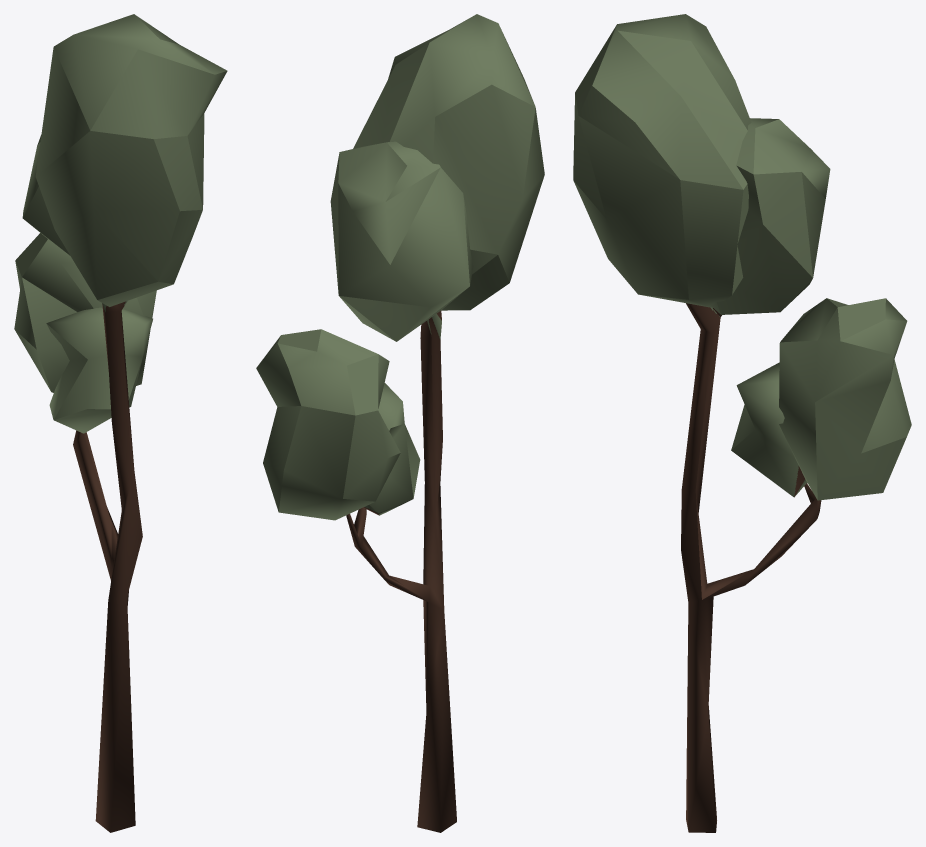
File: BIRCH_TREE_v1.fbx
3 views of the same model, side by side, from view 1: azimuth 30°, elevation 25°; view 2: azimuth 150°, elevation 25°; view 3: azimuth 270°, elevation 25° (orthographic). The views are drawn at different scales.
Parts seen in each view (by area): view 1: BirchTree_Autumn_5_Cube.080; view 2: BirchTree_Autumn_5_Cube.080; view 3: BirchTree_Autumn_5_Cube.080.
Boxes of the visible parts, x1=… form: BirchTree_Autumn_5_Cube.080: x1=14, y1=14, x2=227, y2=832; BirchTree_Autumn_5_Cube.080: x1=256, y1=14, x2=544, y2=832; BirchTree_Autumn_5_Cube.080: x1=573, y1=14, x2=911, y2=832.
Size of the model in its own units: 120 by 498 by 192.
